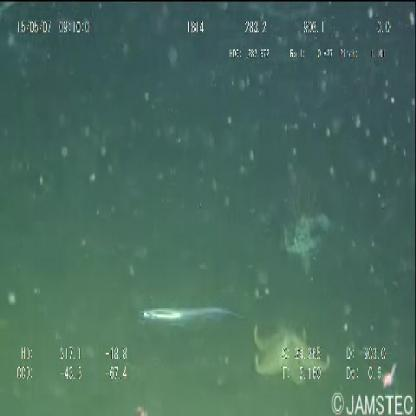Rác: (282, 201, 332, 278)
